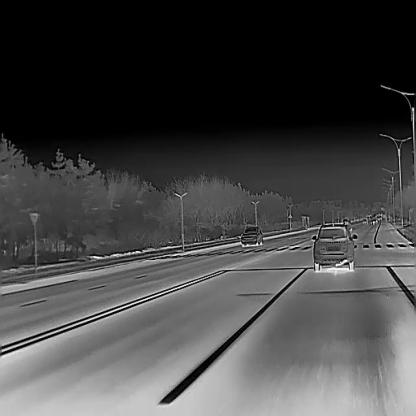car: (311, 221, 357, 270), (240, 225, 262, 245), (342, 218, 350, 224), (370, 217, 376, 223), (361, 218, 366, 224)
